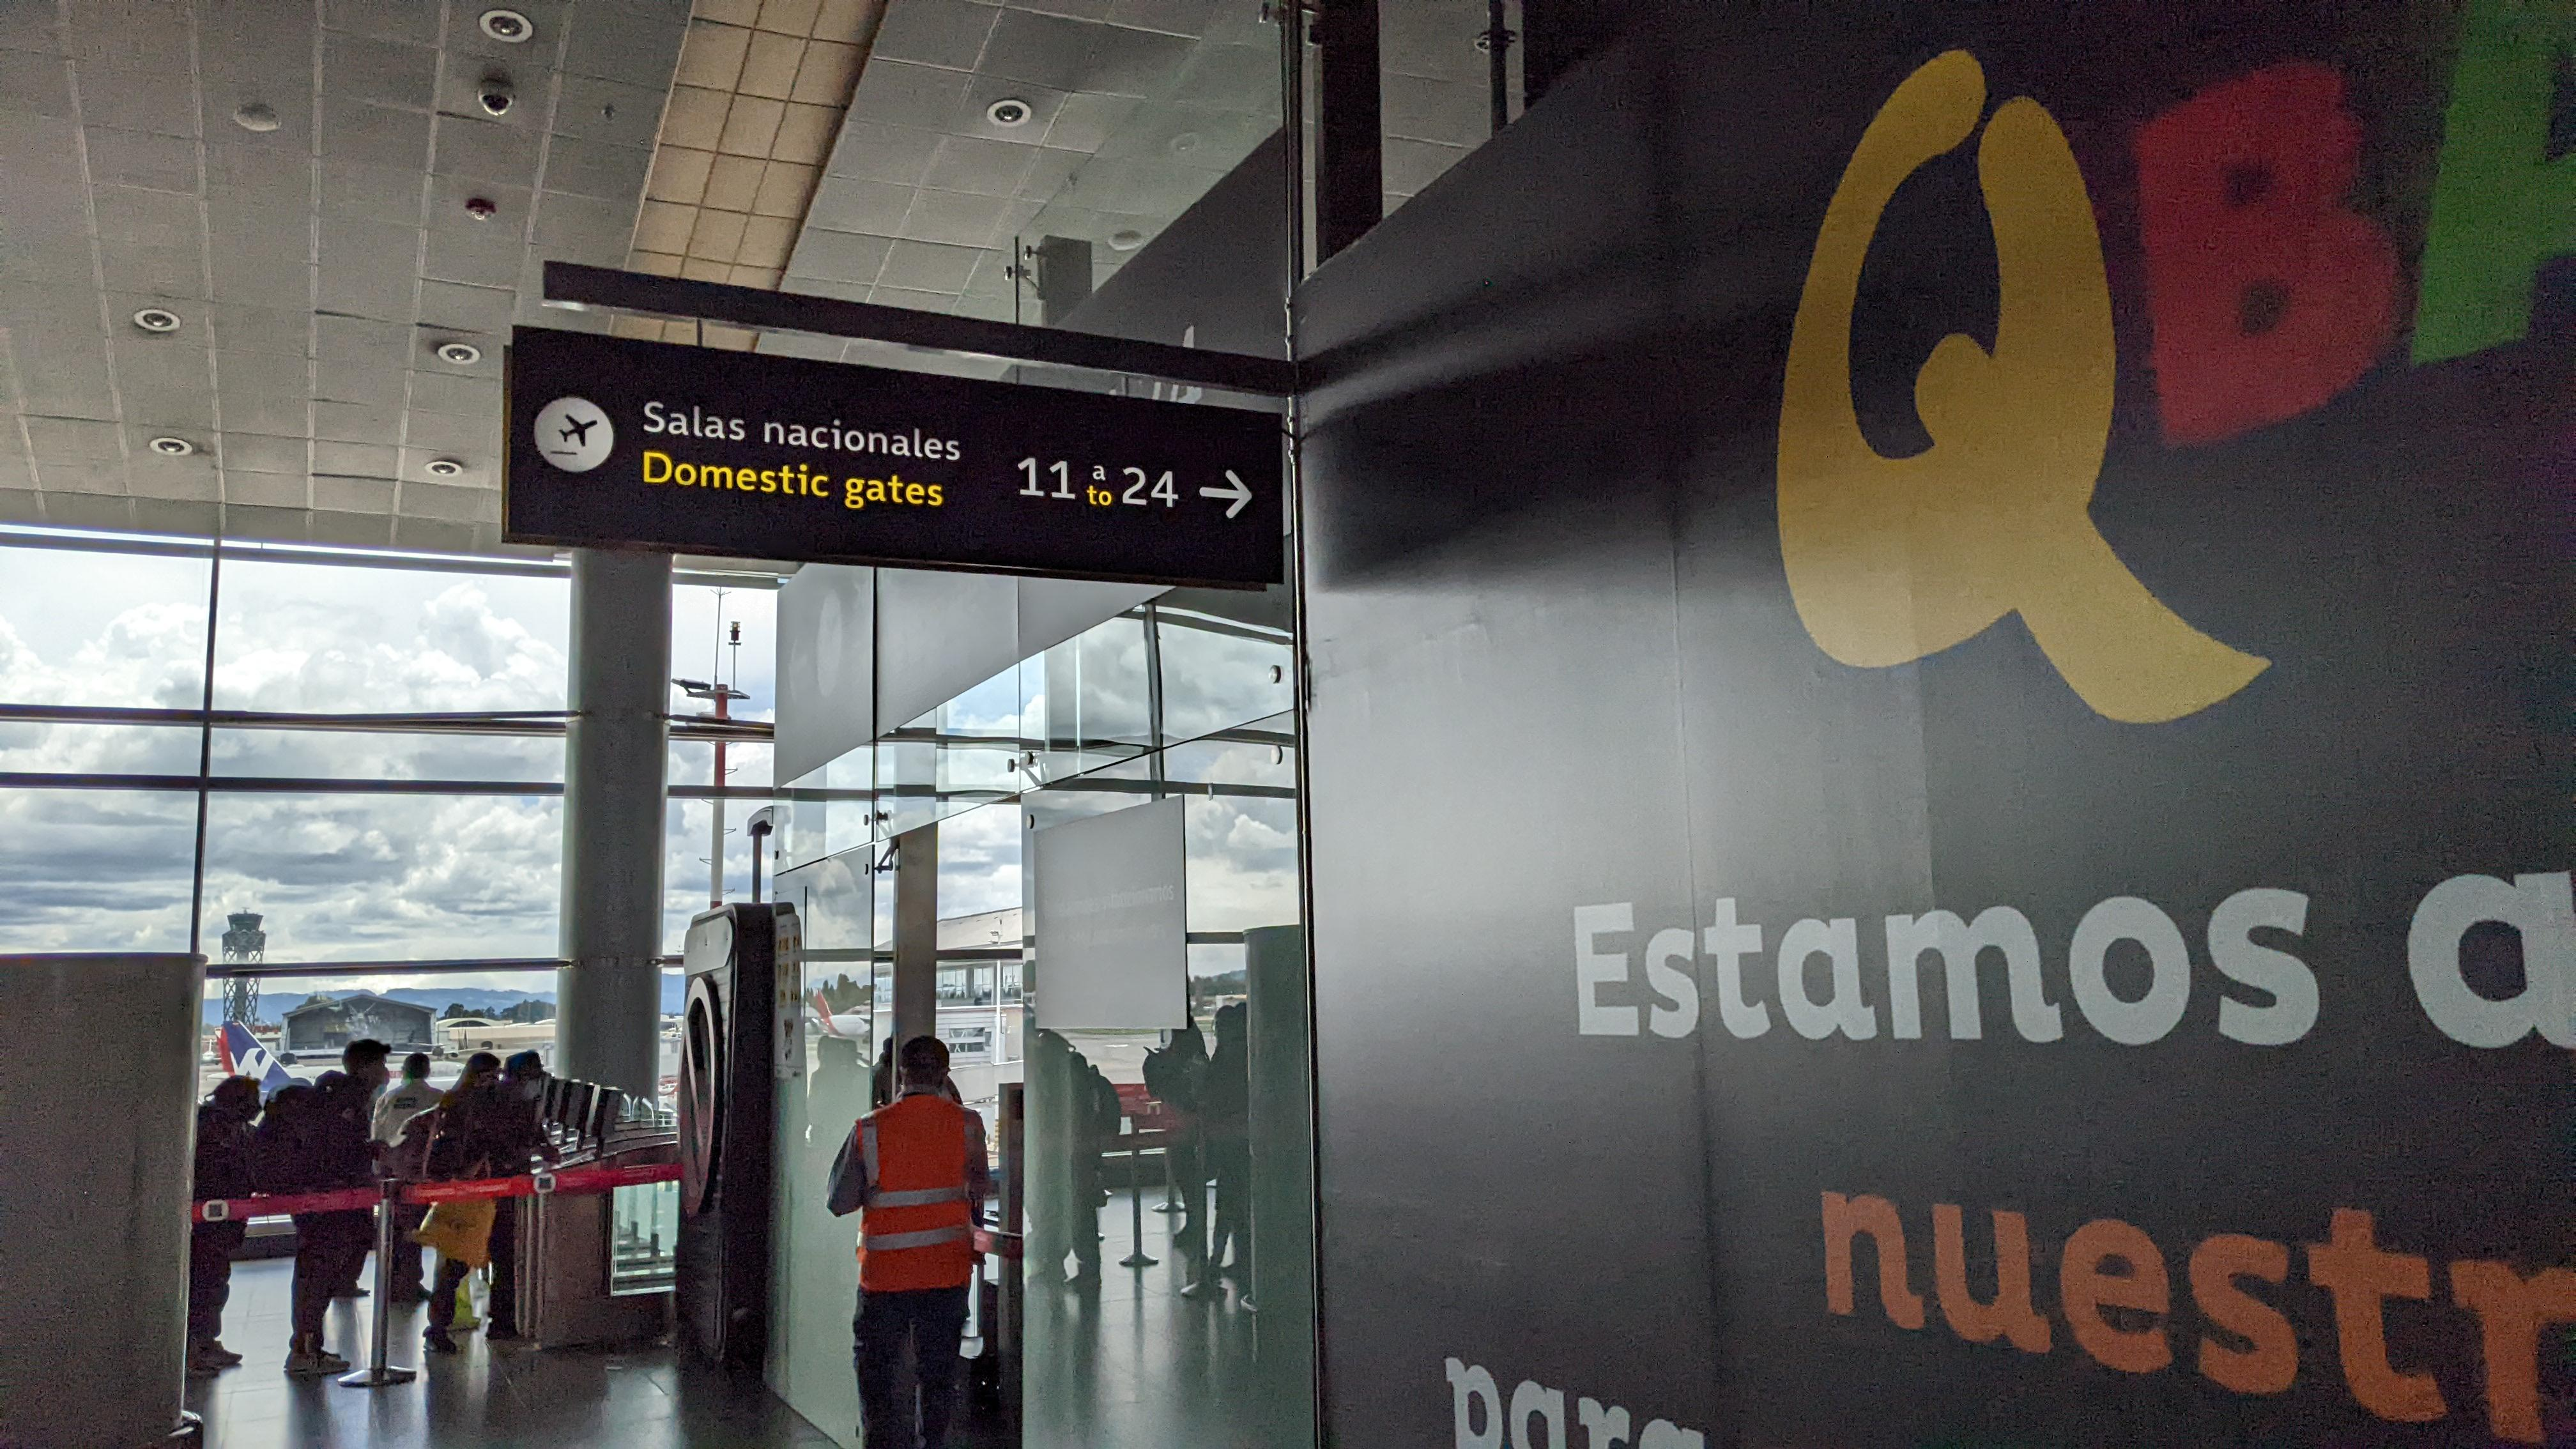airplane symbol: (554, 410, 602, 449)
thin right arrow: (1196, 467, 1258, 522)
